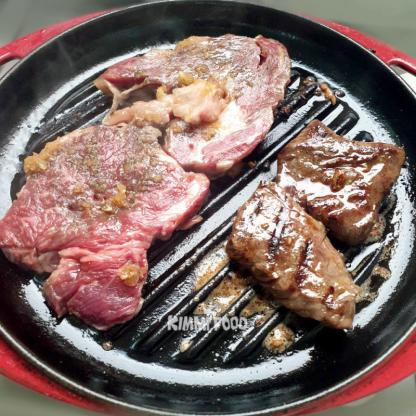Carne: (228, 189, 361, 336), (277, 120, 404, 229)
